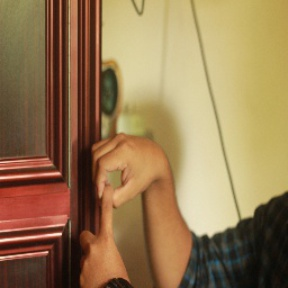Q: (71, 131, 164, 279)
